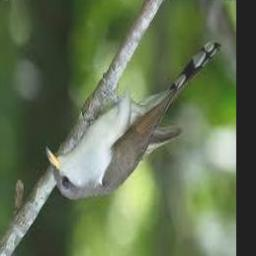Cuckoo: (45, 40, 220, 200)
